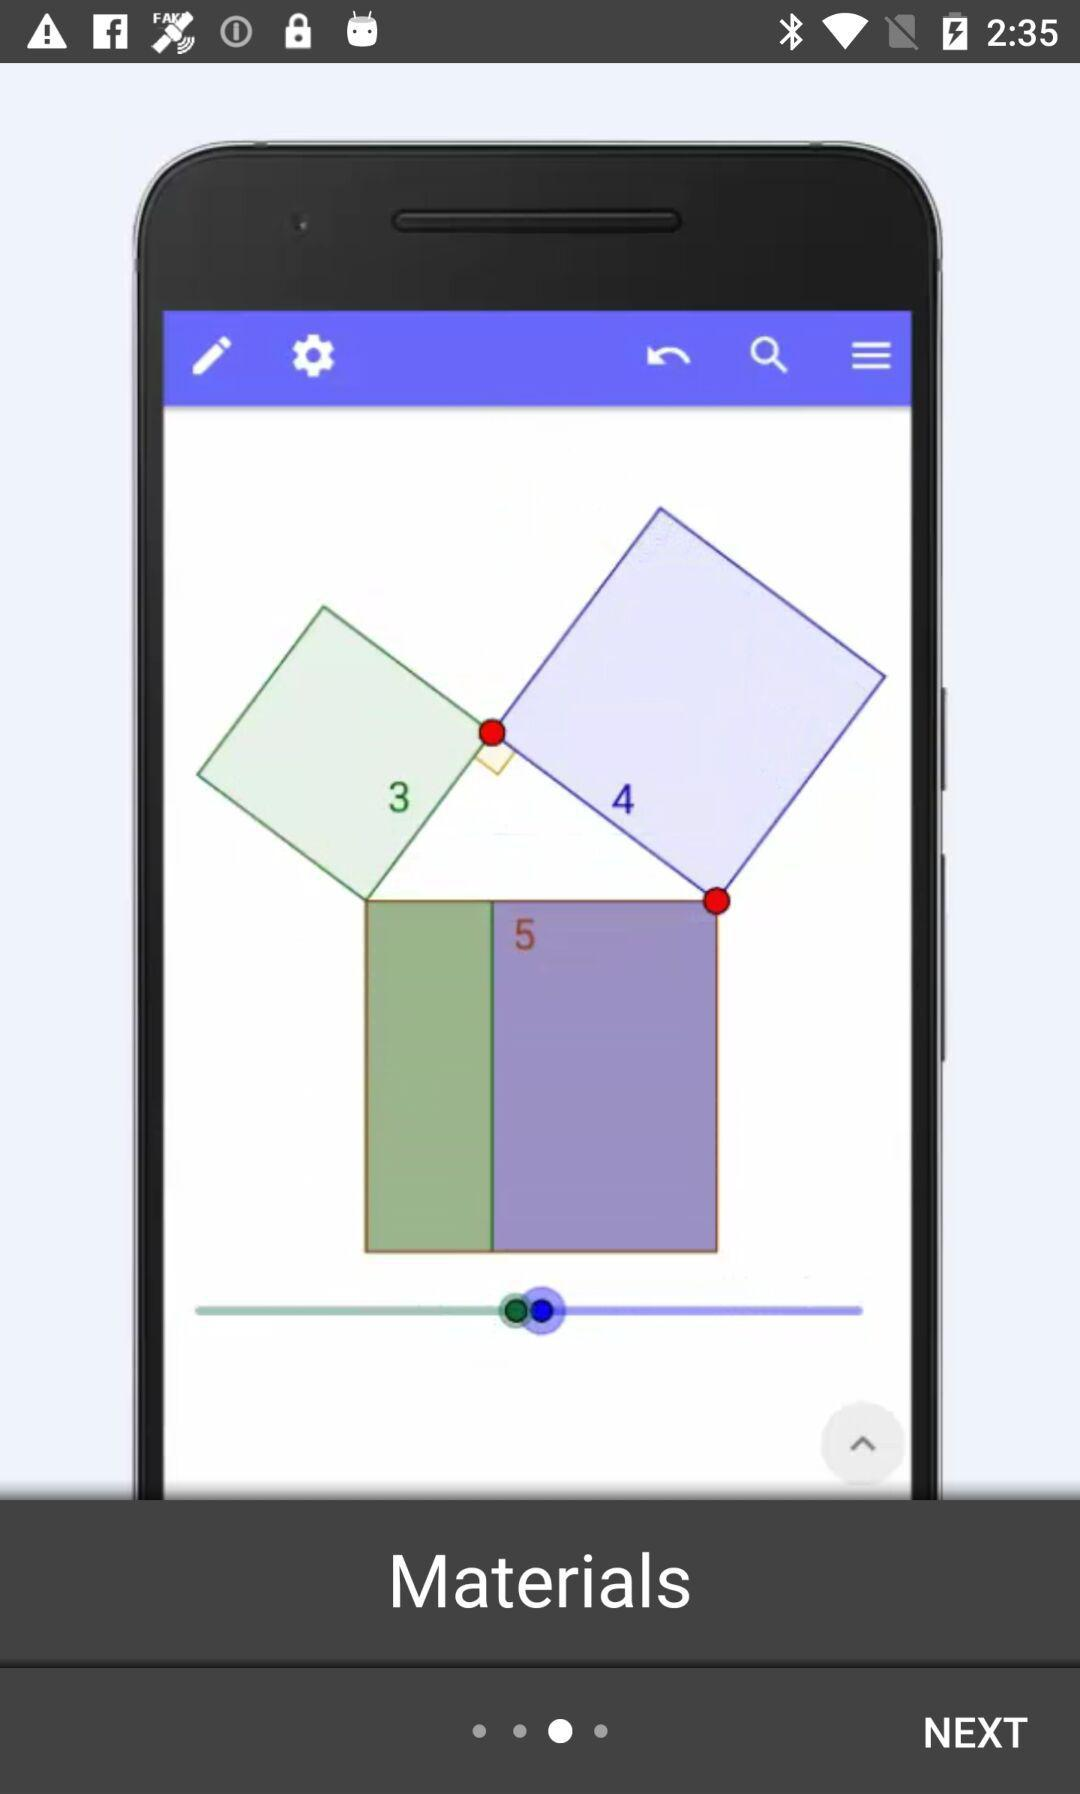Image: (129, 138, 948, 1501)
PageIndicator: (471, 1717, 610, 1745)
Text: (392, 1551, 691, 1609), (924, 1716, 1029, 1750)
UpperTaskBar: (1, 1, 1080, 64)
